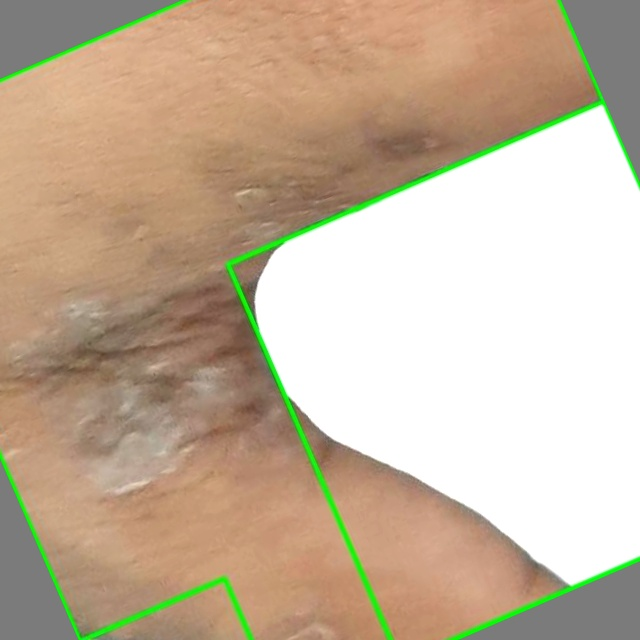Scabies: (0, 0, 639, 639), (227, 101, 639, 639)
